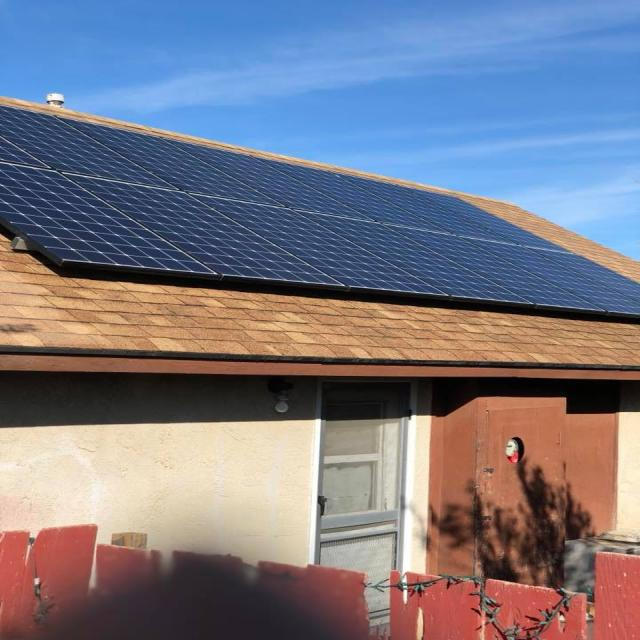clean-solar-panel: (0, 101, 638, 318)
